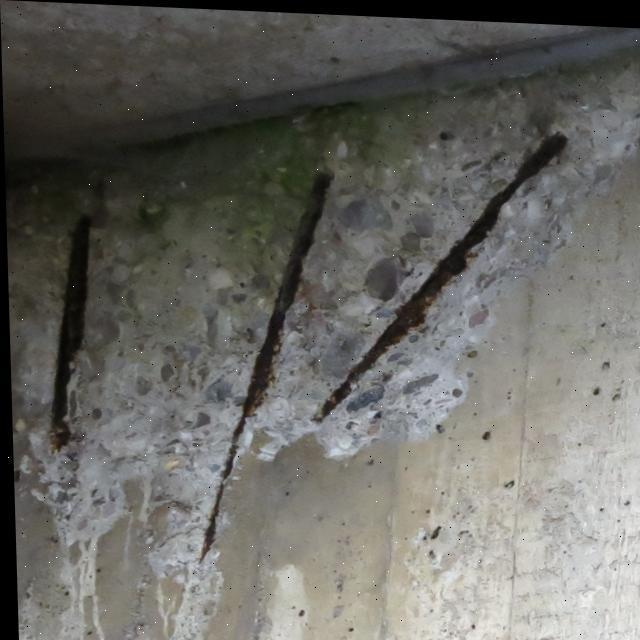D0w0: (30, 114, 613, 605)
